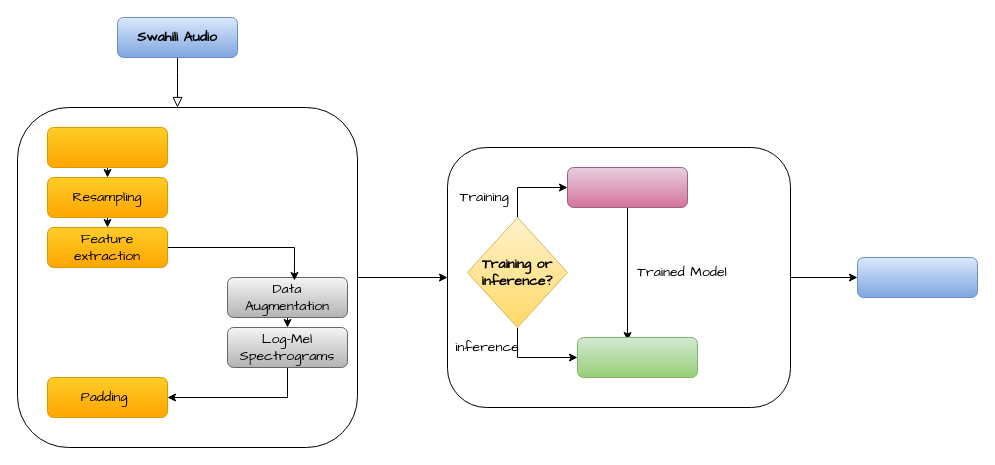
The diagram is 995 pixels wide and 465 high, and some of its shapes have lost their labels. The centre of each missing label's shape, as x and y in pixels:
"Finetune Whisper Small" belongs at [627,187].
"Model" belongs at [637,357].
"Swahili Text" belongs at [917,277].
"Tokenization" belongs at [107,147].
